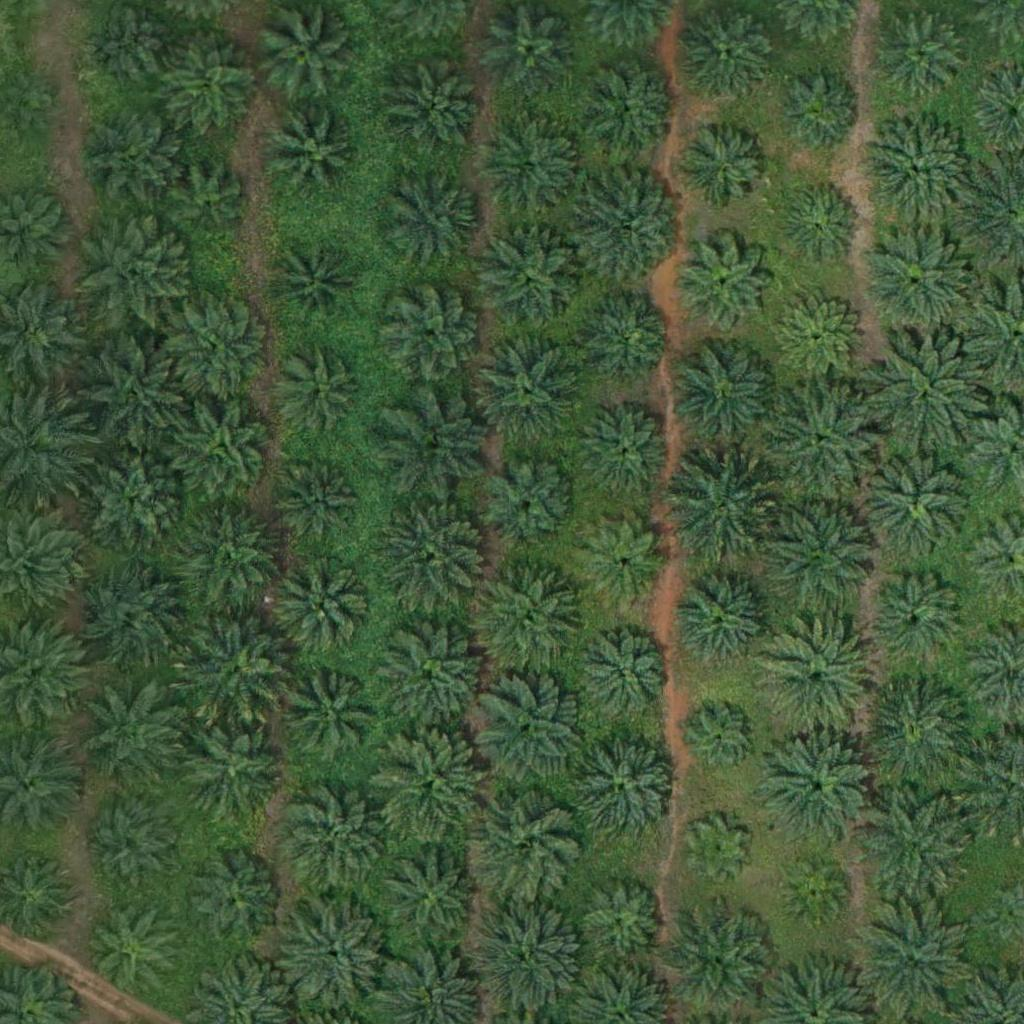Kelapa_Sawit: (473, 223, 586, 337), (573, 169, 686, 283), (670, 339, 783, 453), (662, 452, 775, 566), (79, 217, 192, 330), (379, 504, 492, 617), (374, 623, 487, 736), (668, 561, 781, 674), (760, 623, 873, 736), (859, 112, 972, 225), (860, 228, 973, 341), (853, 900, 966, 1013), (762, 734, 875, 847), (467, 789, 580, 902), (471, 902, 584, 1015), (372, 727, 485, 840), (374, 847, 487, 960), (768, 384, 880, 498), (765, 496, 877, 610), (862, 564, 974, 678), (859, 676, 971, 790), (280, 897, 392, 1011), (76, 682, 188, 796), (79, 341, 191, 454), (76, 559, 188, 672), (180, 511, 292, 624), (379, 383, 491, 496), (472, 330, 584, 443), (469, 561, 581, 674), (869, 334, 981, 447), (863, 447, 975, 560), (862, 789, 974, 902), (663, 906, 775, 1019), (571, 733, 683, 846), (471, 674, 583, 787), (281, 781, 393, 894), (177, 615, 289, 728), (677, 1, 777, 102), (157, 29, 257, 130), (87, 113, 187, 214), (86, 454, 186, 555), (175, 299, 275, 400), (173, 396, 273, 497), (265, 238, 365, 339), (272, 556, 372, 657), (381, 279, 481, 380), (478, 450, 578, 551), (278, 665, 378, 766), (384, 58, 484, 158), (259, 5, 359, 105), (389, 166, 489, 266), (481, 114, 581, 214), (575, 288, 675, 388), (575, 402, 675, 502), (672, 234, 772, 334), (181, 724, 281, 824), (182, 854, 282, 954), (81, 897, 181, 997), (580, 634, 668, 722), (679, 125, 767, 213), (777, 179, 865, 267), (774, 293, 862, 381), (577, 874, 665, 962), (877, 11, 964, 100), (275, 459, 362, 548), (485, 9, 572, 97), (585, 64, 672, 152), (278, 346, 365, 434), (580, 518, 667, 606), (775, 67, 862, 155), (83, 805, 170, 893), (279, 119, 354, 195), (174, 164, 249, 239), (783, 861, 846, 924), (691, 707, 754, 770), (686, 818, 749, 881), (6, 70, 56, 121)
